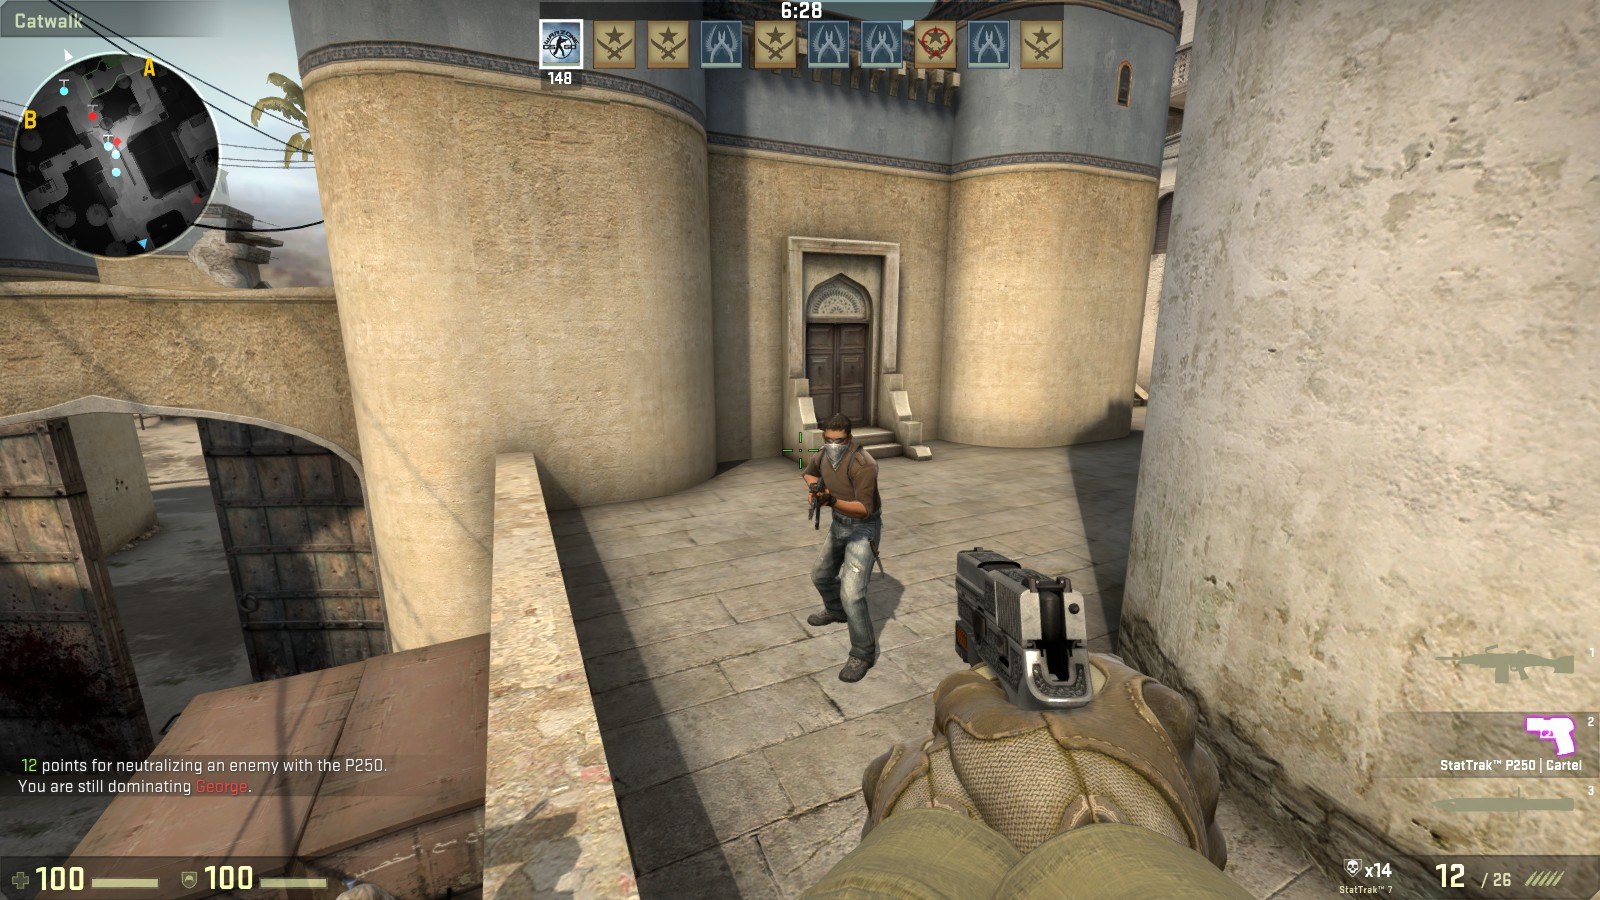t: (804, 411, 881, 679)
th: (820, 413, 855, 462)
